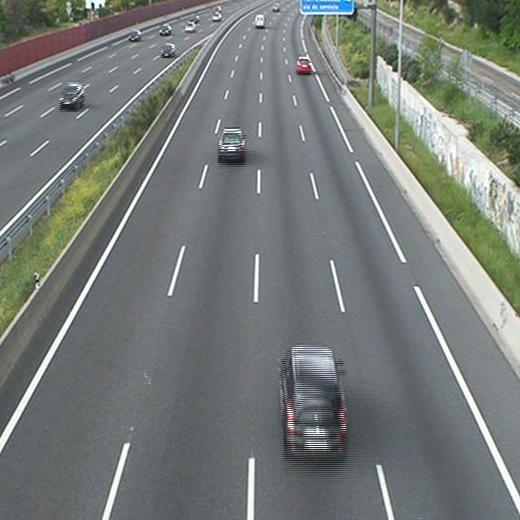car: (282, 350, 346, 446), (218, 129, 244, 158), (295, 58, 311, 72)
van: (254, 14, 265, 27)
